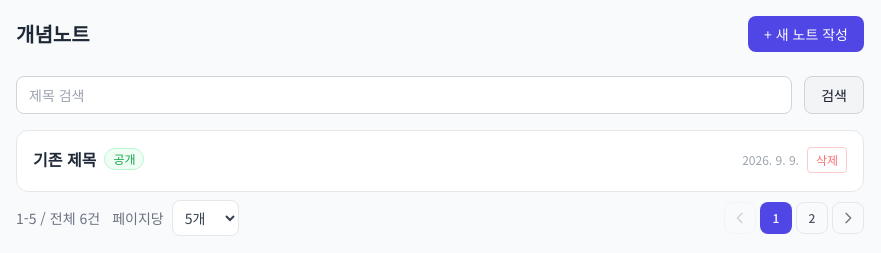
Scenario: 개념노트 서버 목록 › 첫 페이지 밖 제목을 서버 검색하고 검색 결과의 다음 페이지를 유지한다
Check: the heading "기존 제목" is shown, box [33,147,96,171]
Type "찾은" into the field with placeholder "제목 검색" at (404, 95), box [16,76,792,114]
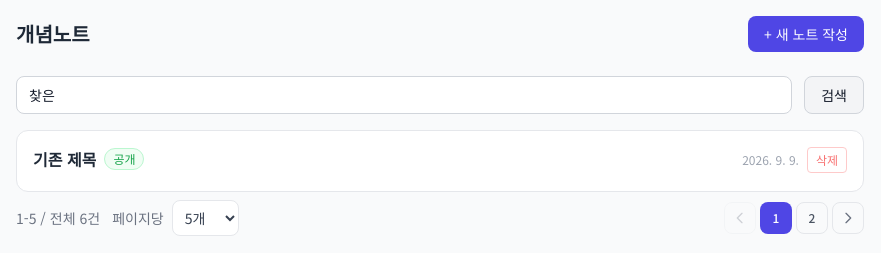
Click the button "검색" at (834, 95), box [804,76,864,114]
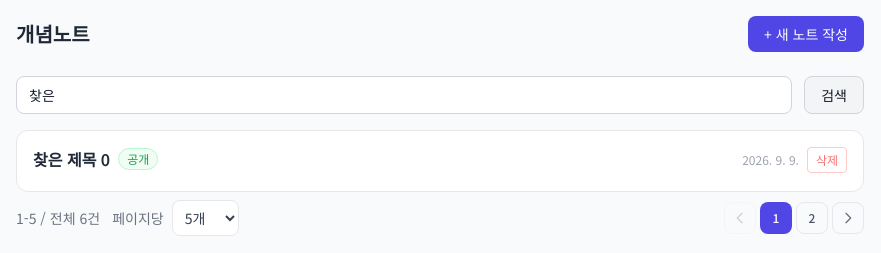
Check: the heading "찾은 제목 0" is shown, box [33,147,110,171]
Click the button named "다음 페이지" at (848, 218), box [832,202,864,234]
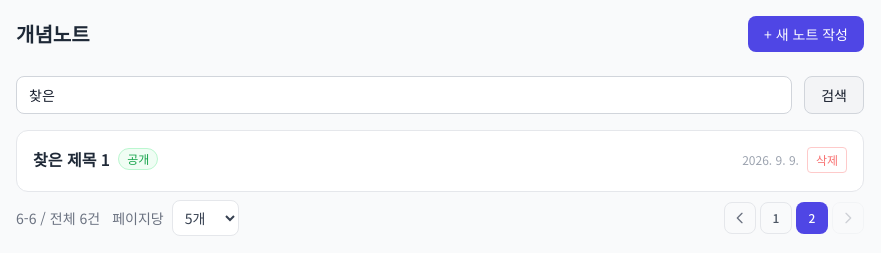
Check: the heading "찾은 제목 1" is shown, box [33,147,110,171]
